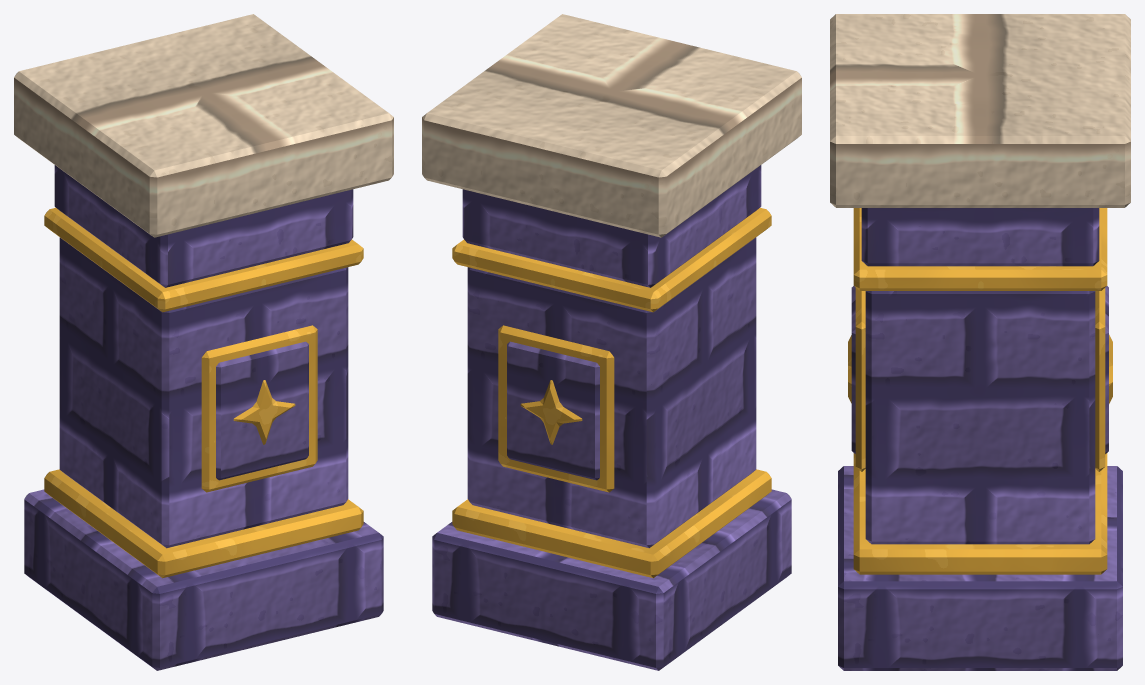
The model's file is Baranda_Poste.fbx.
3 renders of one model, left to right at view 1: azimuth 30°, elevation 25°; view 2: azimuth 150°, elevation 25°; view 3: azimuth 270°, elevation 25°, orthographic. The views are drawn at different scales.
Visible parts, largest first — view 1: Kit_Baranda_Poste; view 2: Kit_Baranda_Poste; view 3: Kit_Baranda_Poste.
Boxes of the visible parts, <box> form: Kit_Baranda_Poste: <box>14,14,393,670</box>; Kit_Baranda_Poste: <box>422,14,801,670</box>; Kit_Baranda_Poste: <box>830,14,1130,670</box>.
Size of the model in its own units: 0.76 by 1.5 by 0.76.
